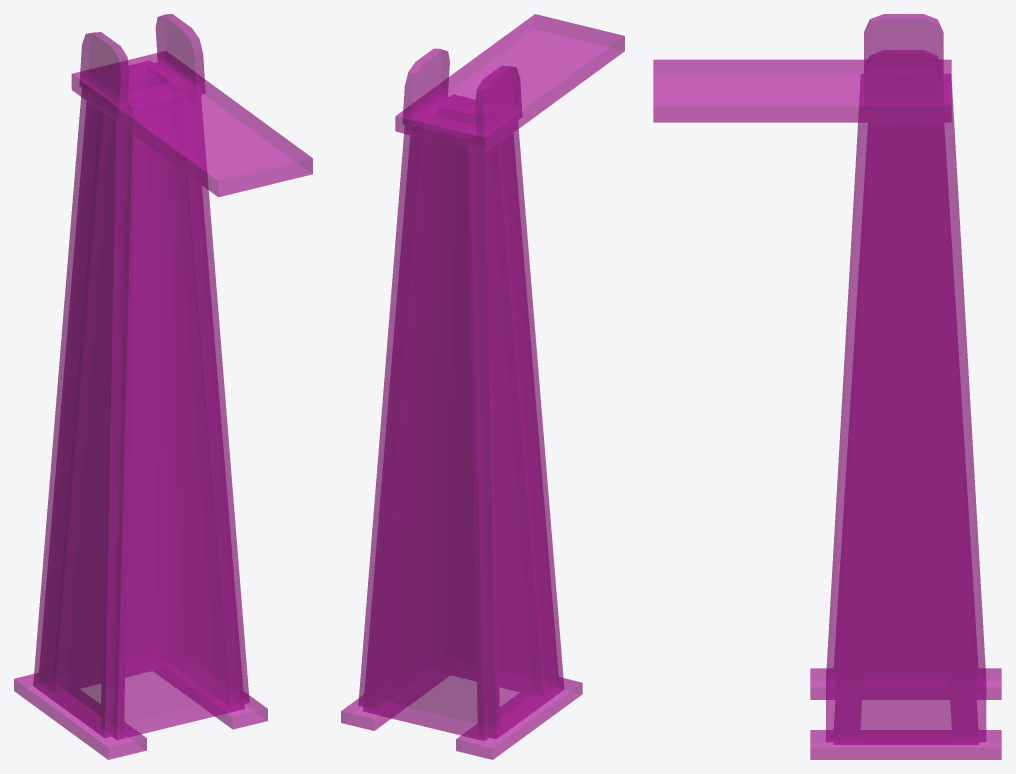
The model's file is SM_Prop_Dive_Tower_01_Collision.fbx.
3 renders of one model, left to right at view 1: azimuth 30°, elevation 25°; view 2: azimuth 150°, elevation 25°; view 3: azimuth 270°, elevation 25°, orthographic. The views are drawn at different scales.
Visible parts, largest first — view 1: SM_Prop_Dive_Tower_01_Collision; view 2: SM_Prop_Dive_Tower_01_Collision; view 3: SM_Prop_Dive_Tower_01_Collision.
Part boxes in pixels (<box>): SM_Prop_Dive_Tower_01_Collision: <box>14,14,312,759</box>; SM_Prop_Dive_Tower_01_Collision: <box>341,14,624,759</box>; SM_Prop_Dive_Tower_01_Collision: <box>653,14,1001,759</box>.
Size of the model in its own units: 223 by 903 by 415.
